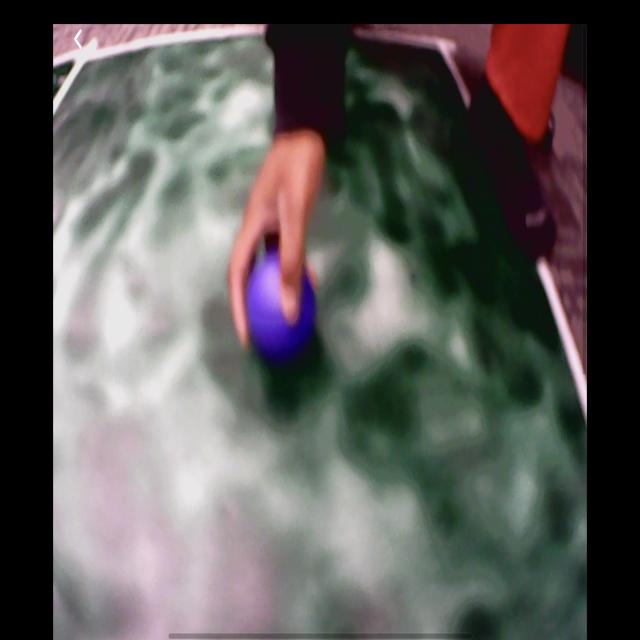ball: (247, 254, 317, 357)
